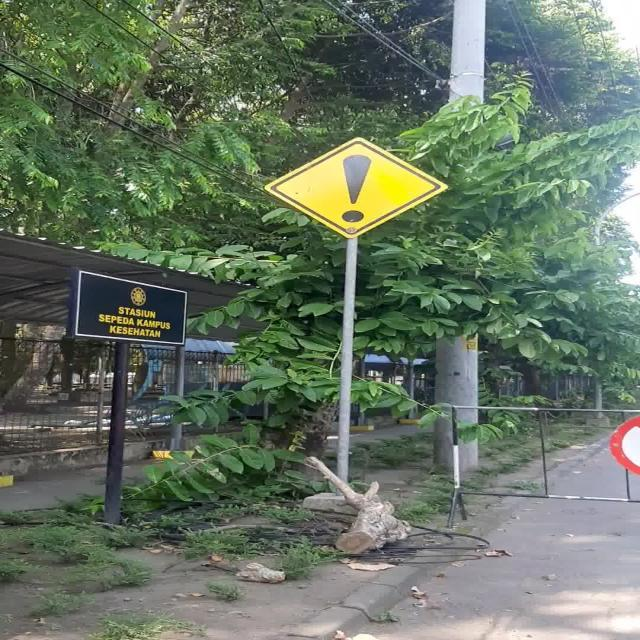Hati-Hati: (264, 136, 448, 240)
